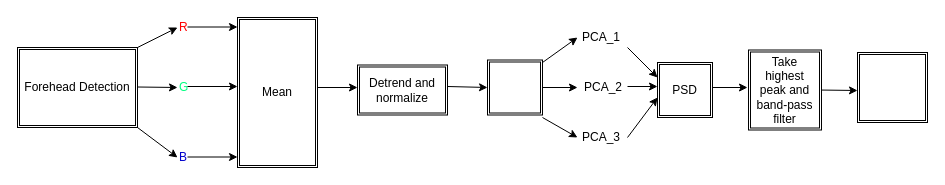
Some shapes in this 945 by 185 pixel diagram are drawn without their labels. Here are the shapes that lost their labels. From the top down, the centre of each, then its label:
At point (514, 87): "PCA".
At point (892, 87): "FFT".
